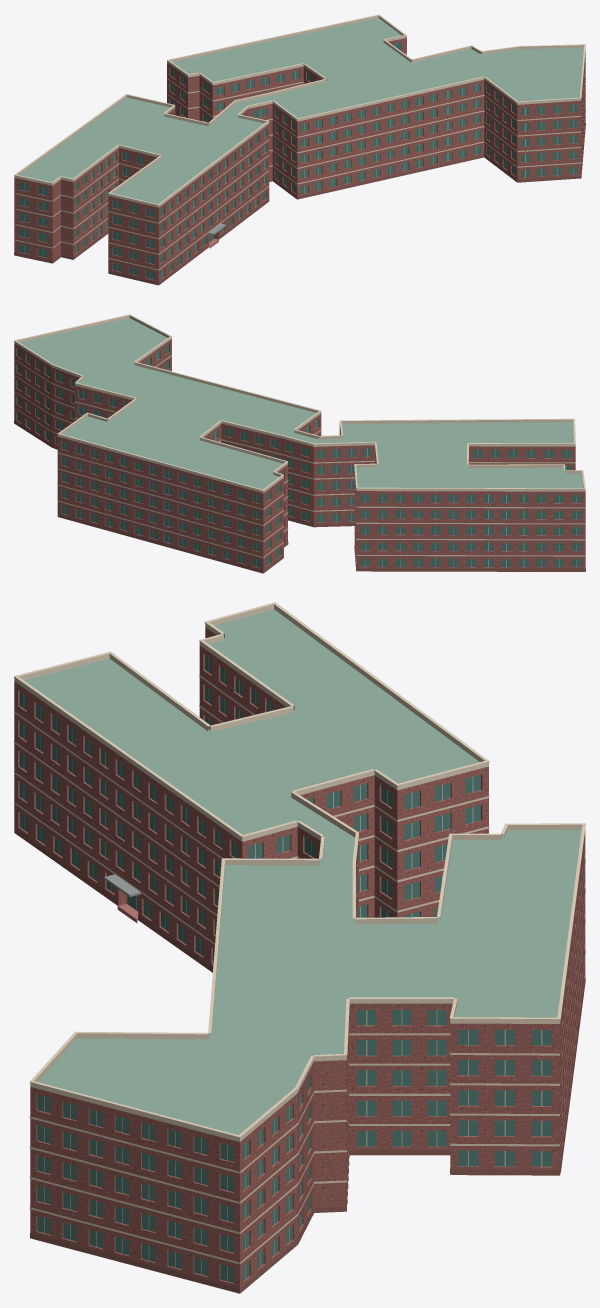
The picture shows the model from 3 angles, top to bottom: view 1: azimuth 30°, elevation 25°; view 2: azimuth 150°, elevation 25°; view 3: azimuth 270°, elevation 25°; orthographic projection. The views are drawn at different scales.
Visible parts, largest first — view 1: global-academy__wall, global-academy__roof, global-academy__glass, global-academy__trim, global-academy__parapet, global-academy__base, global-academy__frame; view 2: global-academy__wall, global-academy__roof, global-academy__glass, global-academy__trim, global-academy__parapet, global-academy__base, global-academy__frame; view 3: global-academy__roof, global-academy__wall, global-academy__glass, global-academy__trim, global-academy__parapet, global-academy__base, global-academy__frame.
Boxes of the visible parts, x1,y1,x2,y2 form: global-academy__wall: [14, 38, 585, 284]; global-academy__roof: [19, 18, 583, 203]; global-academy__glass: [19, 42, 577, 279]; global-academy__trim: [14, 14, 585, 270]; global-academy__parapet: [14, 15, 583, 207]; global-academy__base: [14, 123, 585, 285]; global-academy__frame: [24, 43, 573, 278]; global-academy__wall: [14, 339, 585, 570]; global-academy__roof: [20, 318, 583, 571]; global-academy__glass: [17, 344, 581, 567]; global-academy__trim: [14, 314, 585, 557]; global-academy__parapet: [14, 315, 585, 493]; global-academy__base: [14, 421, 585, 573]; global-academy__frame: [29, 352, 576, 567]; global-academy__roof: [24, 609, 581, 1175]; global-academy__wall: [14, 627, 585, 1293]; global-academy__glass: [19, 655, 551, 1282]; global-academy__trim: [14, 602, 585, 1264]; global-academy__parapet: [14, 604, 582, 1141]; global-academy__base: [14, 828, 585, 1293]; global-academy__frame: [23, 658, 542, 1281].
Bounding box in the file's own units: 133 × 18.5 × 59.92.
Materials: 10 (1 with a texture image).
